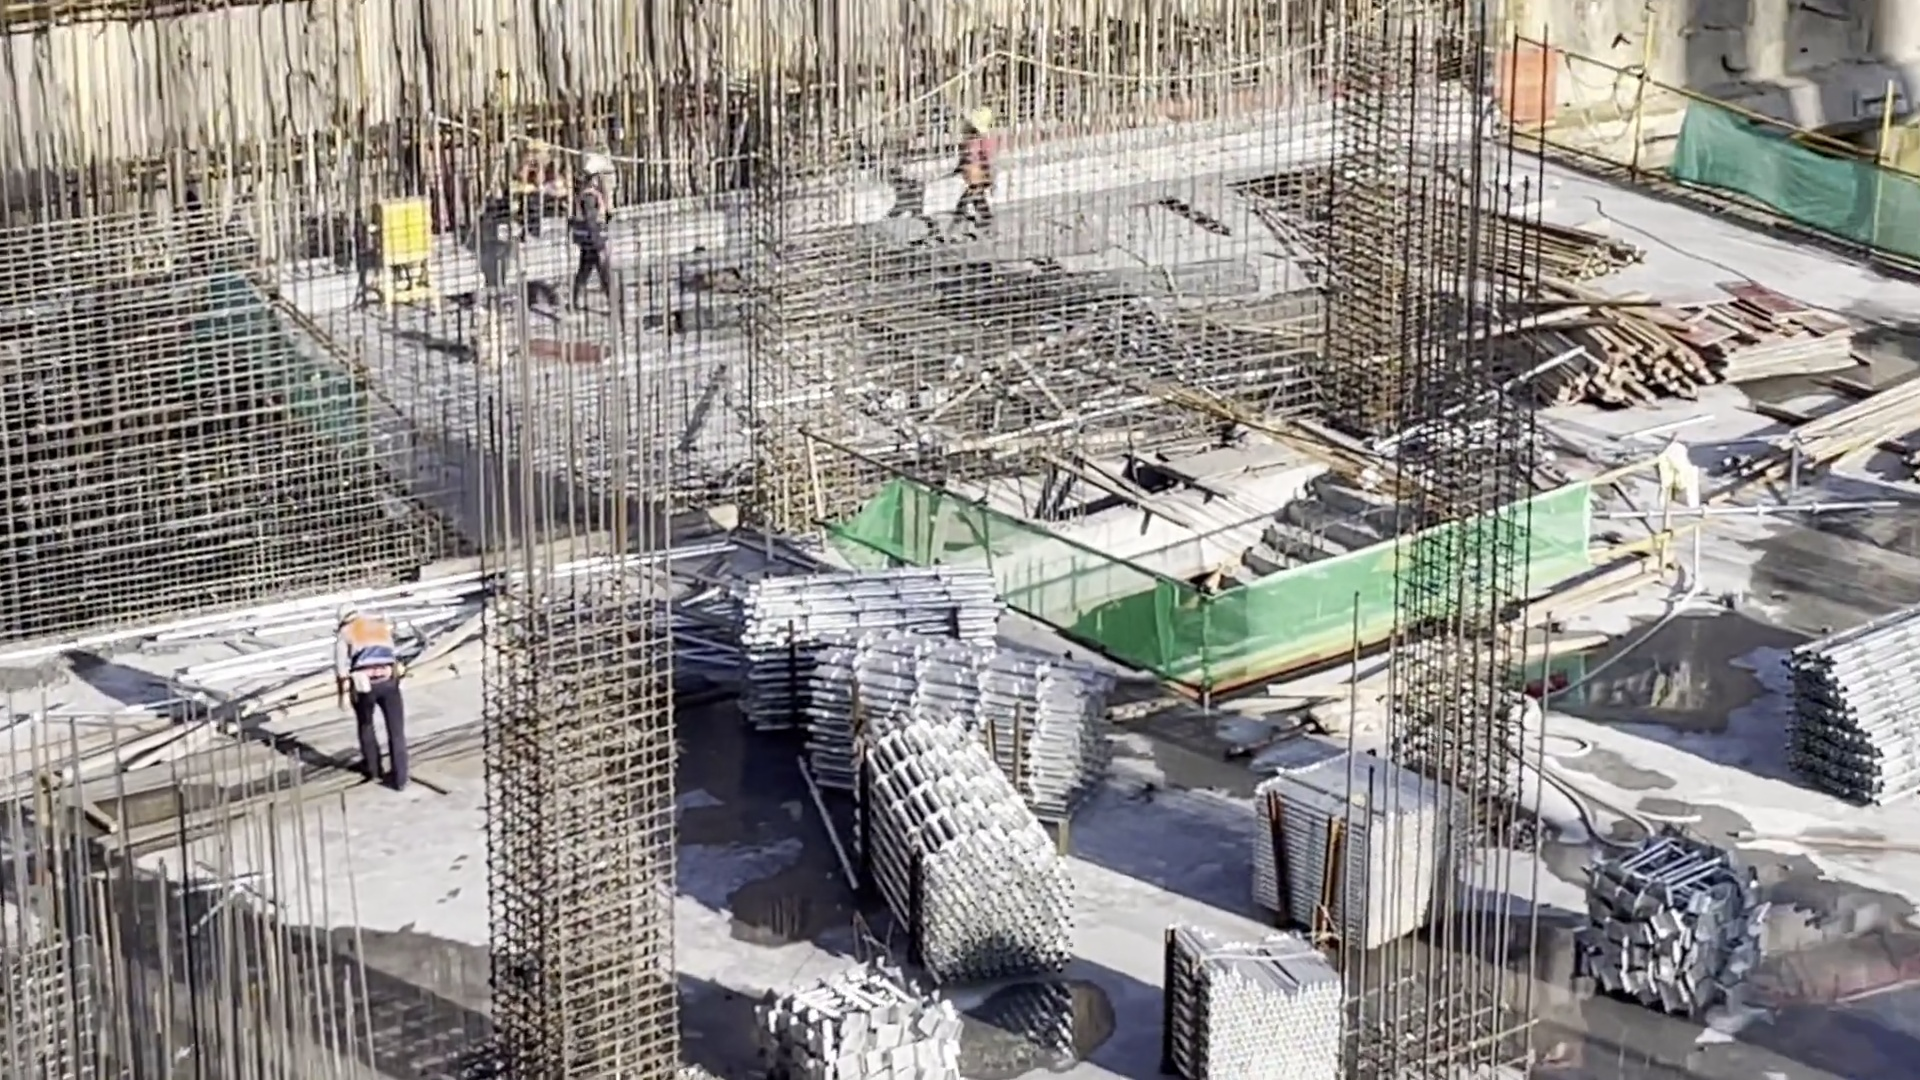board: (1669, 284, 1840, 377)
ebox: (374, 205, 437, 272)
helmet: (971, 112, 991, 132), (583, 163, 603, 183), (335, 603, 356, 618)
person: (328, 601, 410, 793), (568, 160, 618, 313), (945, 112, 996, 241)
scaffold: (837, 640, 1097, 814), (733, 569, 991, 738), (1260, 748, 1452, 943), (895, 735, 1045, 960), (1155, 941, 1325, 1080), (1799, 612, 1920, 795)
vest: (342, 623, 395, 686), (957, 141, 994, 198), (572, 190, 608, 248)
wood: (1507, 312, 1696, 401), (1441, 208, 1637, 287), (1769, 386, 1920, 457)
